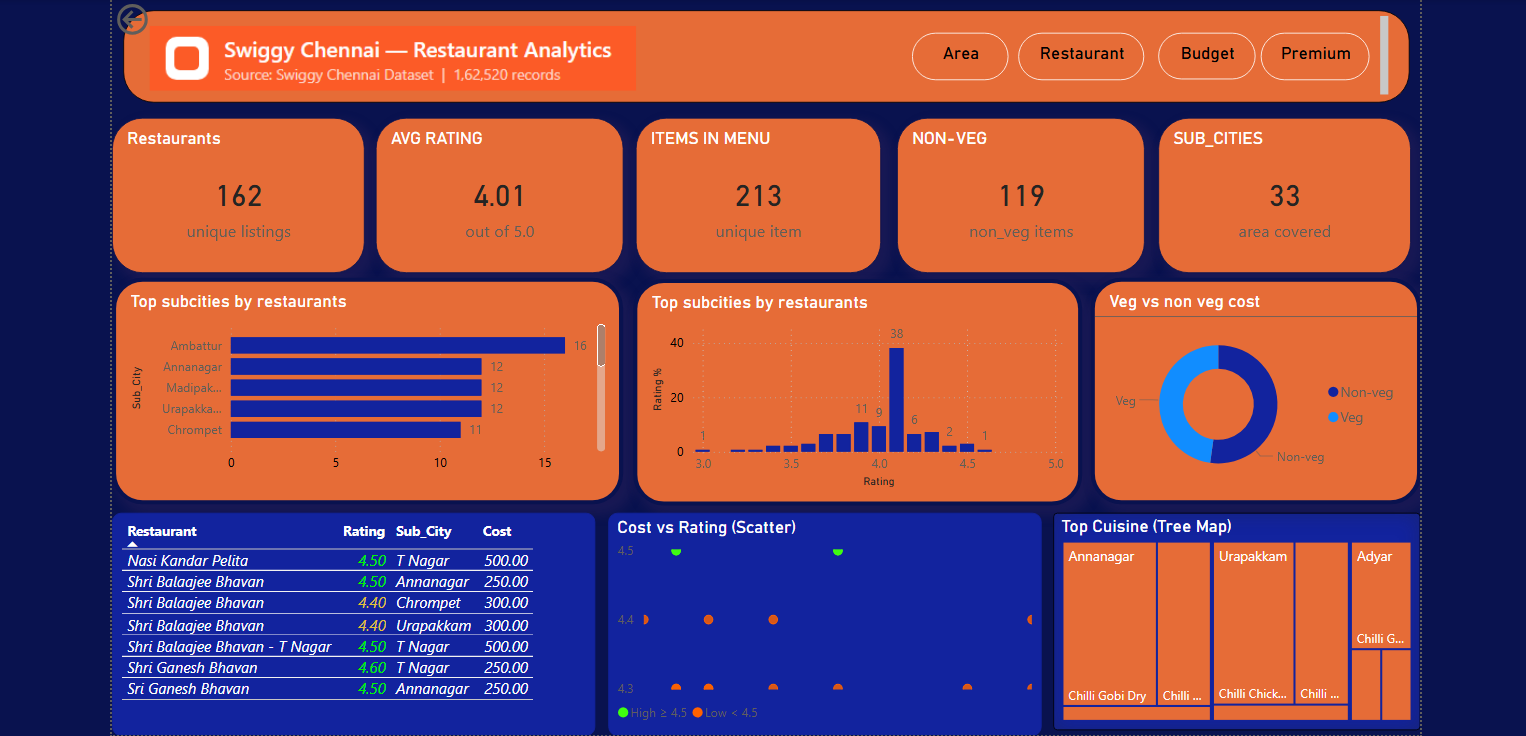

The page's visual inventory and layout, read from the dashboard file:
{"tool":"powerbi","page":{"name":"Page 1","canvas":[1280,720],"ordinal":0},"visuals":[{"type":"textbox","box":[10.8,10.8,1258.7,90.2],"z":0},{"type":"card","title":"Restaurants","fields":{"Values":["Count(swiggy_analysis_manipulated.Restaurant)"]},"box":[0,116.2,247,151.6],"z":1000},{"type":"card","title":"AVG RATING","fields":{"Values":["Avg(swiggy_analysis_manipulated.Rating)"]},"box":[258,116.2,242.1,151.6],"z":2000},{"type":"card","title":"ITEMS IN MENU","fields":{"Values":["CountNonNull(swiggy_analysis_manipulated.Item)"]},"box":[512.4,116.2,239.7,151.6],"z":3000},{"type":"card","title":"NON-VEG","fields":{"Values":["CountNonNull(swiggy_analysis_manipulated.item)"]},"box":[767.9,116.2,242.1,151.6],"z":4000},{"type":"card","title":"SUB_CITIES","fields":{"Values":["Count(swiggy_analysis_manipulated.Sub_City)"]},"box":[1023.5,116.2,247,151.6],"z":5000},{"type":"barChart","title":"Top subcities by restaurants ","fields":{"Y":["CountNonNull(swiggy_analysis_manipulated.Restaurant)"],"Category":["swiggy_analysis_manipulated.Sub_City"]},"box":[0,272.7,500.1,221.3],"z":6000},{"type":"columnChart","title":"Top subcities by restaurants ","fields":{"Y":["swiggy_analysis_manipulated.Rating %"],"Category":["swiggy_analysis_manipulated.Rating"]},"box":[509.9,273.9,439,221.3],"z":7000},{"type":"donutChart","title":"Veg vs non veg cost","fields":{"Category":["swiggy_analysis_manipulated.Veg_or_Non_Veg"],"Y":["Avg(swiggy_analysis_manipulated.Cost)"]},"box":[957.5,272.7,322.8,221.3],"z":8000},{"type":"actionButton","box":[0,0,100,40],"z":9000},{"type":"tableEx","fields":{"Values":["swiggy_analysis_manipulated.Restaurant","swiggy_analysis_manipulated.Avg Rating","swiggy_analysis_manipulated.Sub_City","swiggy_analysis_manipulated.Avg Cost"]},"box":[0,502.2,472.8,218.2],"z":10000},{"type":"image","box":[36.4,0,475.7,115.9],"z":11000},{"type":"treemap","title":"Top Cuisine (Tree Map)","fields":{"Group":["swiggy_analysis_manipulated.Sub_City"],"Values":["Count(swiggy_analysis_manipulated.Cuisine)"],"Details":["swiggy_analysis_manipulated.item"]},"box":[920.5,502.2,359.5,212.6],"z":12000},{"type":"slicer","title":"Area","fields":{"Values":["swiggy_analysis_manipulated.Sub_City"]},"box":[782.6,33.3,94.2,46.5],"z":13000},{"type":"slicer","title":"Restaurant","fields":{"Values":["swiggy_analysis_manipulated.Restaurant"]},"box":[886.6,33.3,123.5,46.5],"z":14000},{"type":"slicer","title":"Budget","fields":{"Values":["swiggy_analysis_manipulated.Cost"]},"box":[1023.5,33.3,95.4,45.2],"z":15000},{"type":"slicer","title":"Premium","fields":{"Values":["swiggy_analysis_manipulated.Cost"]},"box":[1123.8,33.3,106.4,46.5],"z":16000},{"type":"scatterChart","title":"Cost vs Rating (Scatter)","fields":{"Category":["swiggy_analysis_manipulated.Restaurant"],"X":["swiggy_analysis_manipulated.Avg Cost"],"Y":["swiggy_analysis_manipulated.Avg Rating"],"Series":["swiggy_analysis_manipulated.Rating Bands"]},"box":[485.4,502.2,423.9,218.2],"z":17000}]}

Visuals, with their boxes in screenshot pixels (x1, y1, x2, y2):
textbox: 134/7/1402/98
"Restaurants" card: 123/113/372/266
"AVG RATING" card: 383/113/627/266
"ITEMS IN MENU" card: 639/113/881/266
"NON-VEG" card: 896/113/1140/266
"SUB_CITIES" card: 1154/113/1403/266
"Top subcities by restaurants " barChart: 123/271/627/493
"Top subcities by restaurants " columnChart: 637/272/1079/495
"Veg vs non veg cost" donutChart: 1087/271/1412/493
actionButton: 123/0/224/36
tableEx - swiggy_analysis_manipulated.Restaurant x swiggy_analysis_manipulated.Avg Rating: 123/502/599/721
image: 160/0/639/113
"Top Cuisine (Tree Map)" treemap: 1050/502/1412/716
"Area" slicer: 911/30/1006/76
"Restaurant" slicer: 1016/30/1140/76
"Budget" slicer: 1154/30/1250/75
"Premium" slicer: 1255/30/1362/76
"Cost vs Rating (Scatter)" scatterChart: 612/502/1039/721
